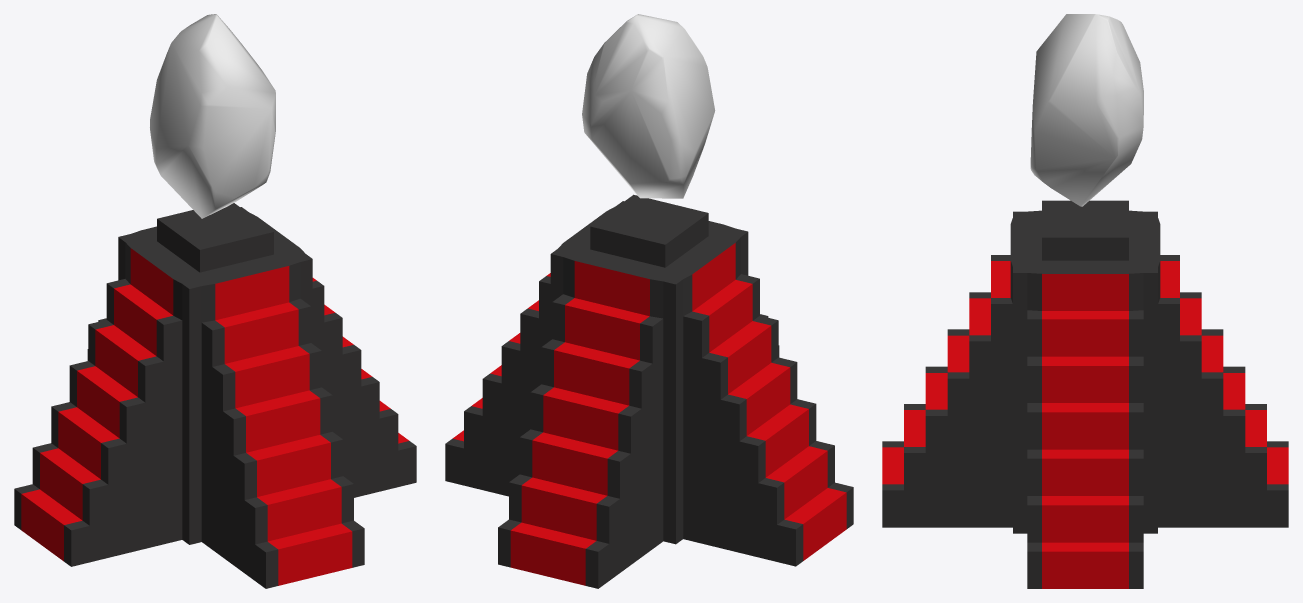
Rendered from FireTower.fbx.
3 renders of one model, left to right at view 1: azimuth 30°, elevation 25°; view 2: azimuth 150°, elevation 25°; view 3: azimuth 270°, elevation 25°, orthographic.
Parts seen in each view (by area): view 1: Cube, Sphere; view 2: Cube, Sphere; view 3: Cube, Sphere.
Part boxes in pixels (x1,y1,x2,y2): Cube: (14,203,416,588); Sphere: (150,14,275,218); Cube: (445,194,853,588); Sphere: (582,14,715,198); Cube: (882,200,1288,588); Sphere: (1030,14,1143,206).
Size of the model in its own units: 600 by 802 by 600.
